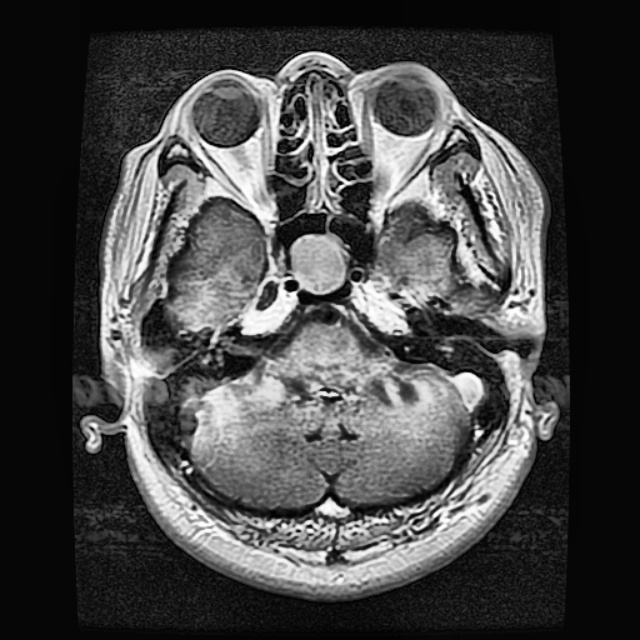Pituitary: (289, 234, 345, 293)
